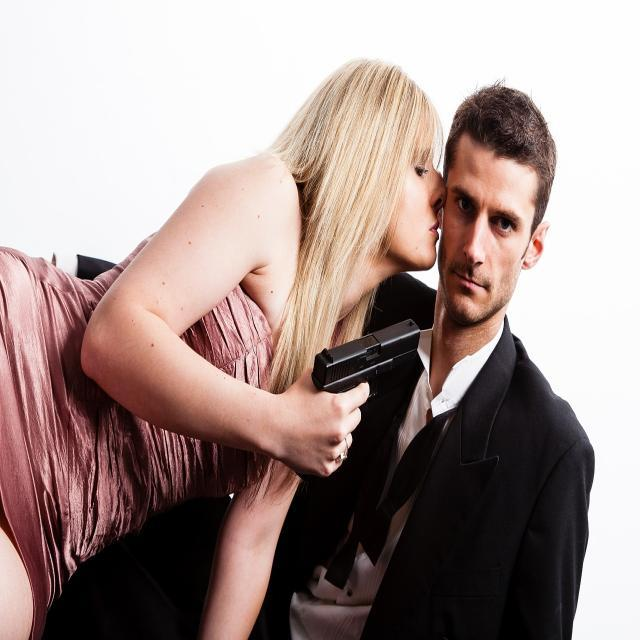Gun: (312, 319, 419, 392)
